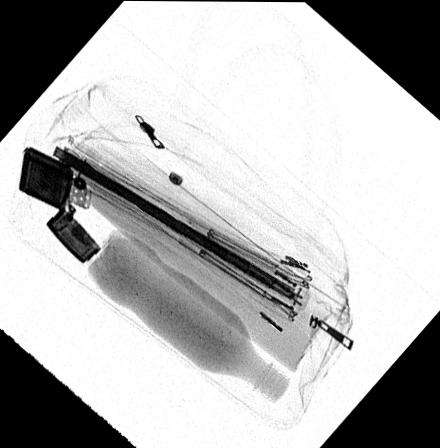Lighter: (17, 145, 103, 265)
